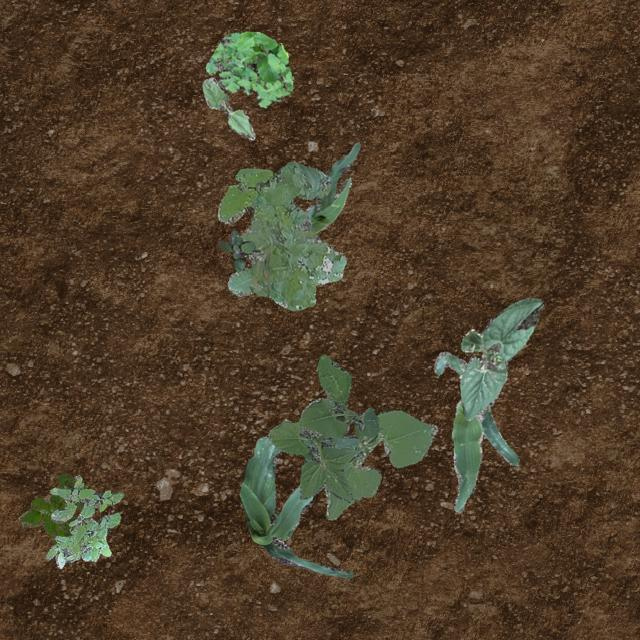crop: (238, 436, 354, 578), (432, 350, 518, 512), (324, 408, 436, 518), (458, 296, 542, 419), (302, 142, 360, 232), (200, 76, 254, 138)
weed: (217, 160, 346, 310), (267, 354, 378, 502), (44, 473, 122, 568), (204, 30, 292, 106), (18, 472, 82, 544), (217, 230, 254, 272)
